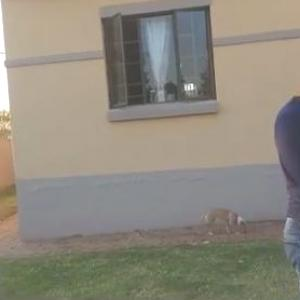follow: (266, 20, 300, 299)
null: (193, 203, 255, 238)
